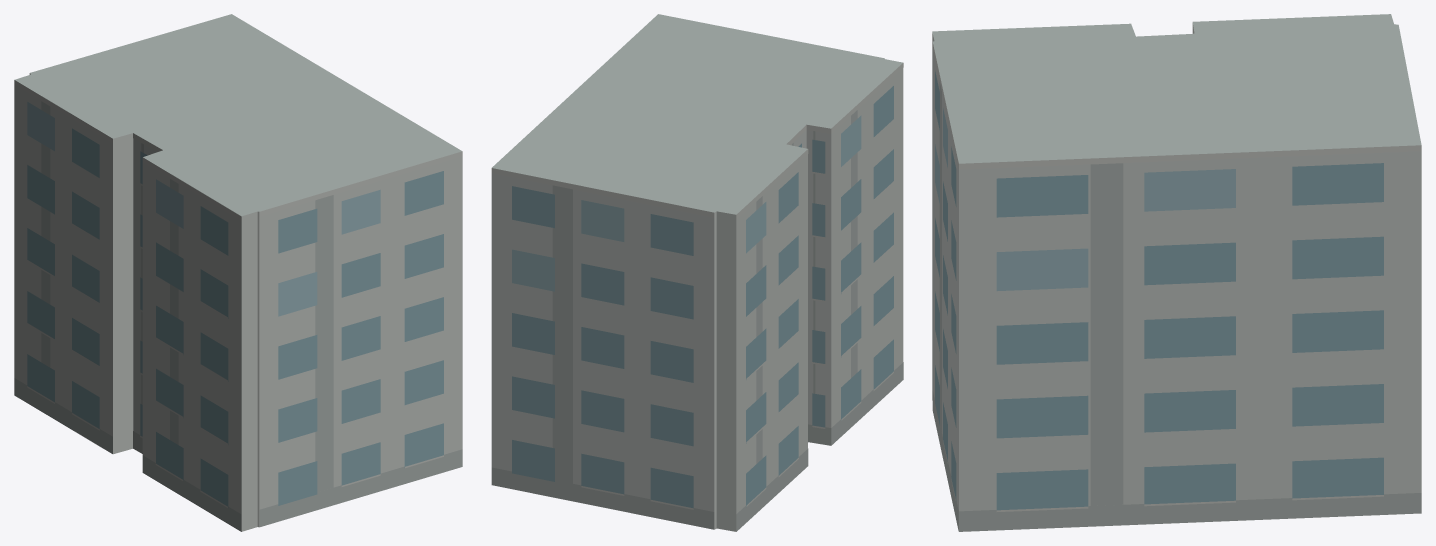
File: survey-upis-32818708.glb
The picture shows the model from 3 angles, left to right: view 1: azimuth 30°, elevation 25°; view 2: azimuth 150°, elevation 25°; view 3: azimuth 270°, elevation 25°; orthographic projection. The views are drawn at different scales.
Visible parts, largest first — view 1: survey-upis-32818708.tmp; view 2: survey-upis-32818708.tmp; view 3: survey-upis-32818708.tmp.
Boxes of the visible parts, left/top/right/bottom form: survey-upis-32818708.tmp: left=14, top=14, right=462, bottom=531; survey-upis-32818708.tmp: left=491, top=14, right=903, bottom=531; survey-upis-32818708.tmp: left=932, top=14, right=1421, bottom=531.
Bounding box in the file's own units: 13 × 14.9 × 17.96.
